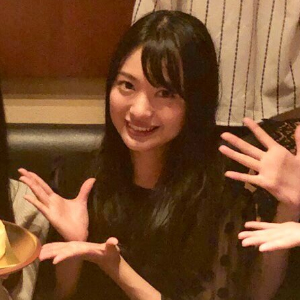face: (109, 49, 185, 149)
hand: (219, 117, 300, 206), (17, 167, 96, 239), (39, 236, 120, 269), (237, 219, 300, 252)
